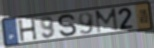2: (118, 6, 137, 31)
9: (39, 16, 57, 40), (78, 12, 96, 35)
H: (17, 17, 39, 43)
M: (94, 7, 120, 35)
S: (57, 13, 78, 38)
